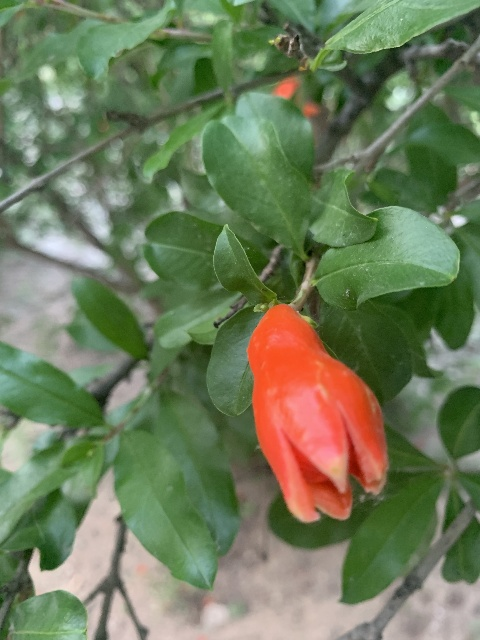flower: (246, 304, 386, 522)
